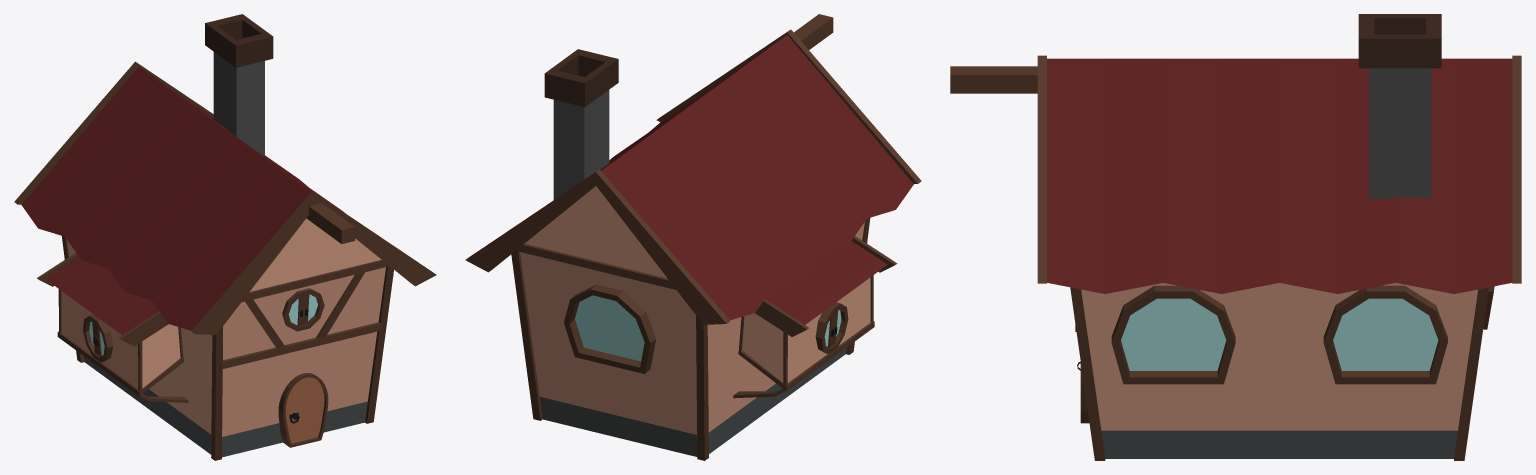
The model's file is ShedHouse5.fbx.
The picture shows the model from 3 angles, left to right: view 1: azimuth 30°, elevation 25°; view 2: azimuth 150°, elevation 25°; view 3: azimuth 270°, elevation 25°; orthographic projection. The views are drawn at different scales.
Parts seen in each view (by area): view 1: Cube.002; view 2: Cube.002; view 3: Cube.002.
Part boxes in pixels (<box>): Cube.002: <box>14,14,436,460</box>; Cube.002: <box>465,14,921,460</box>; Cube.002: <box>950,14,1521,460</box>.
Size of the model in its own units: 668 by 748 by 920.
